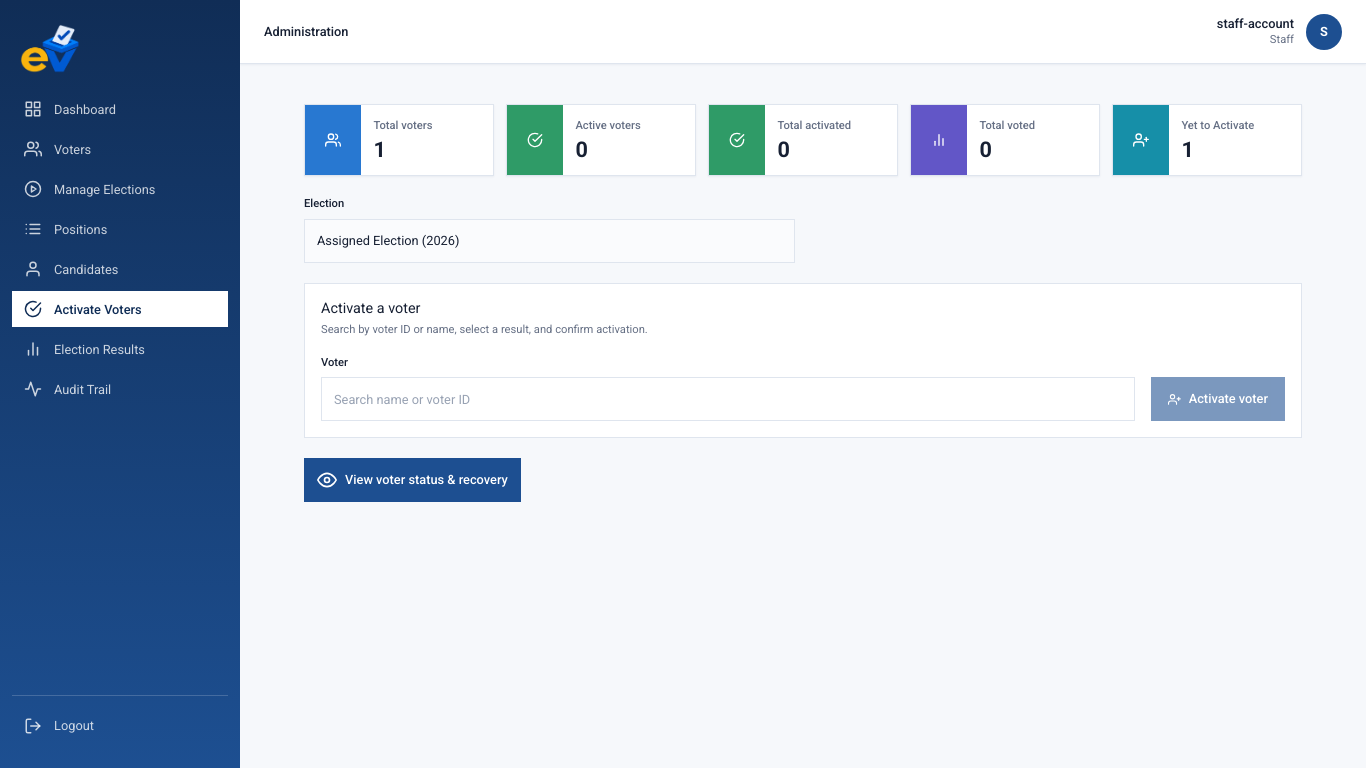
Test: staff election workflows › preserves recovery-row activation callbacks and its success banner
This screenshot has width=1366, height=768.
Click the button "View voter status & recovery": (412, 480) [304,458,521,502]
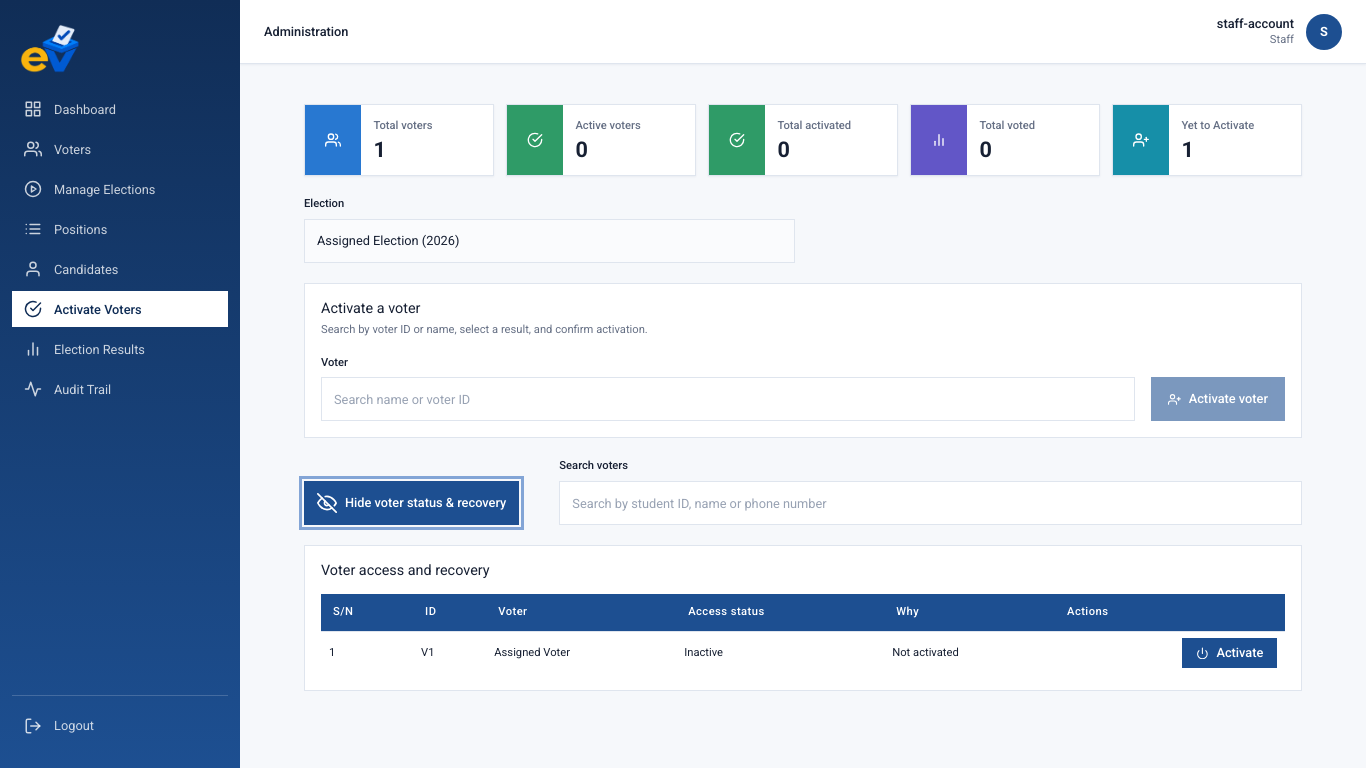
Click the button "Activate": (1230, 653) [1182,638,1277,668]
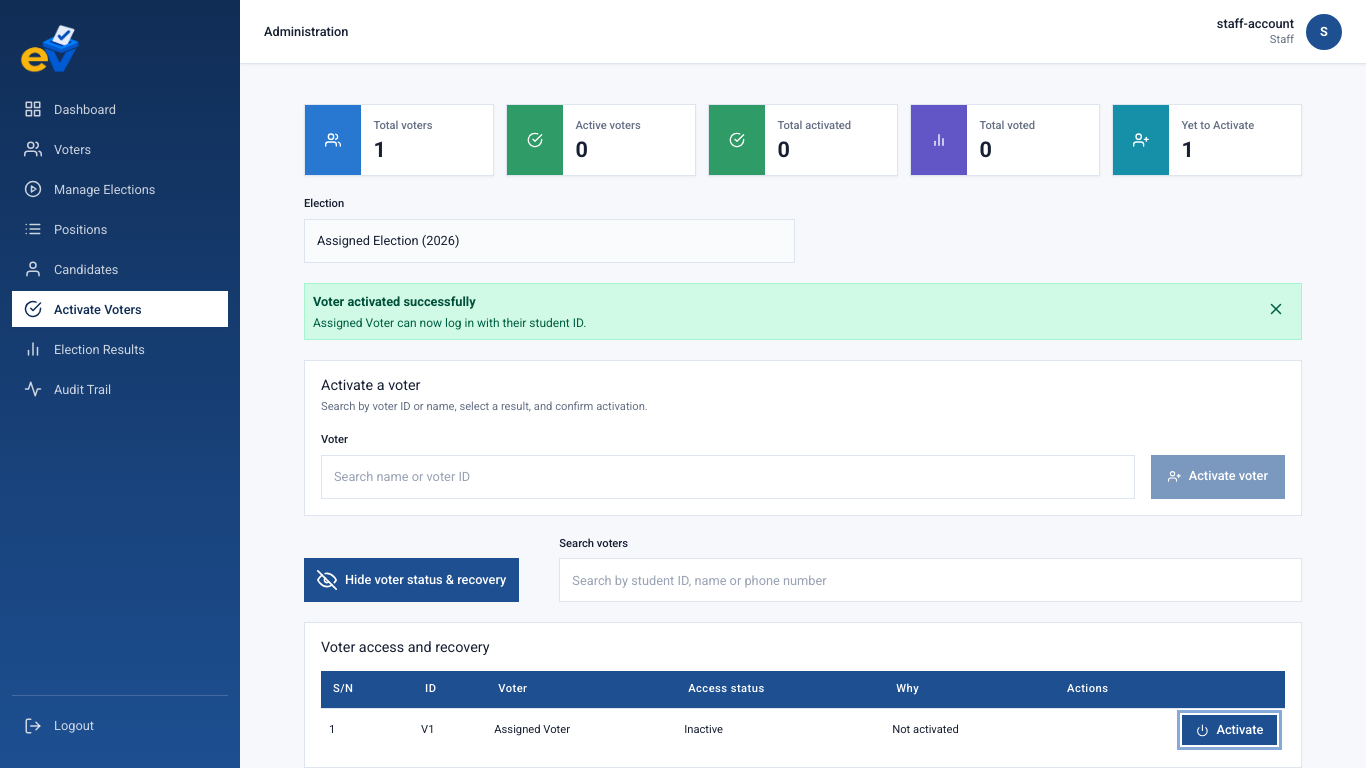
Expected: the text "Assigned Voter can now log in with their student ID." is shown, [313,315,586,331]
